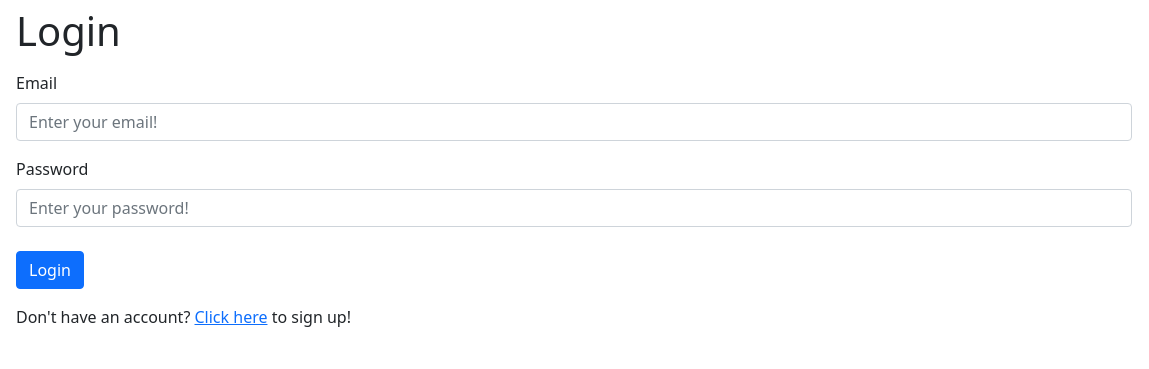
login page tests › filling the password but leaving the email field empty yields one error
The width and height of the screenshot is (1149, 369).
Type "password" into the password field labelled "Password" at (574, 208), box x1=16 y1=189 x2=1132 y2=227
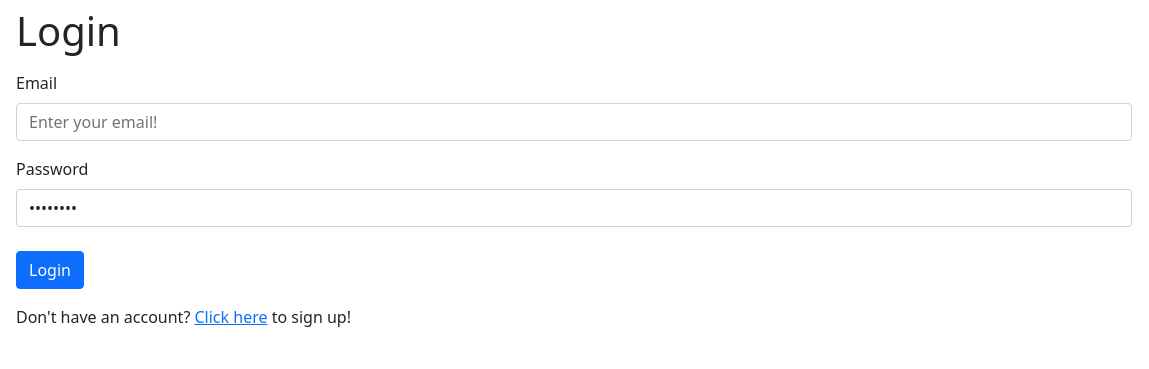
Click the button "Login" at (50, 270), box x1=16 y1=251 x2=84 y2=289
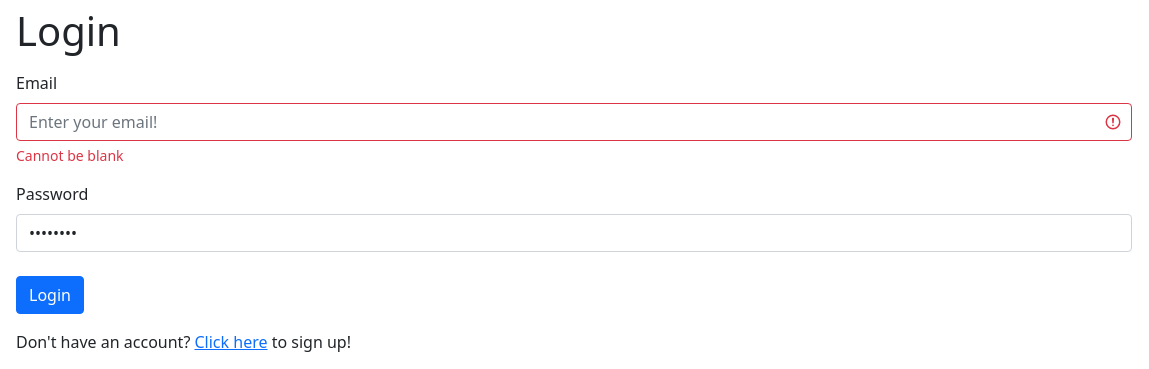
Expected: the element with test id "input" does not show "Cannot be blank", x1=16 y1=182 x2=1132 y2=252
Result: the element with test id "input" shows "Cannot be blank" at x1=16 y1=146 x2=124 y2=165
